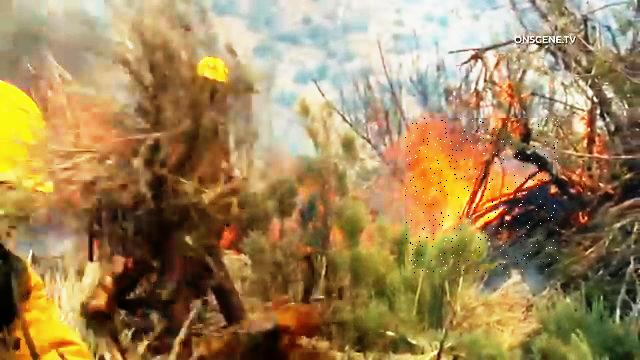fire: (405, 119, 558, 274)
